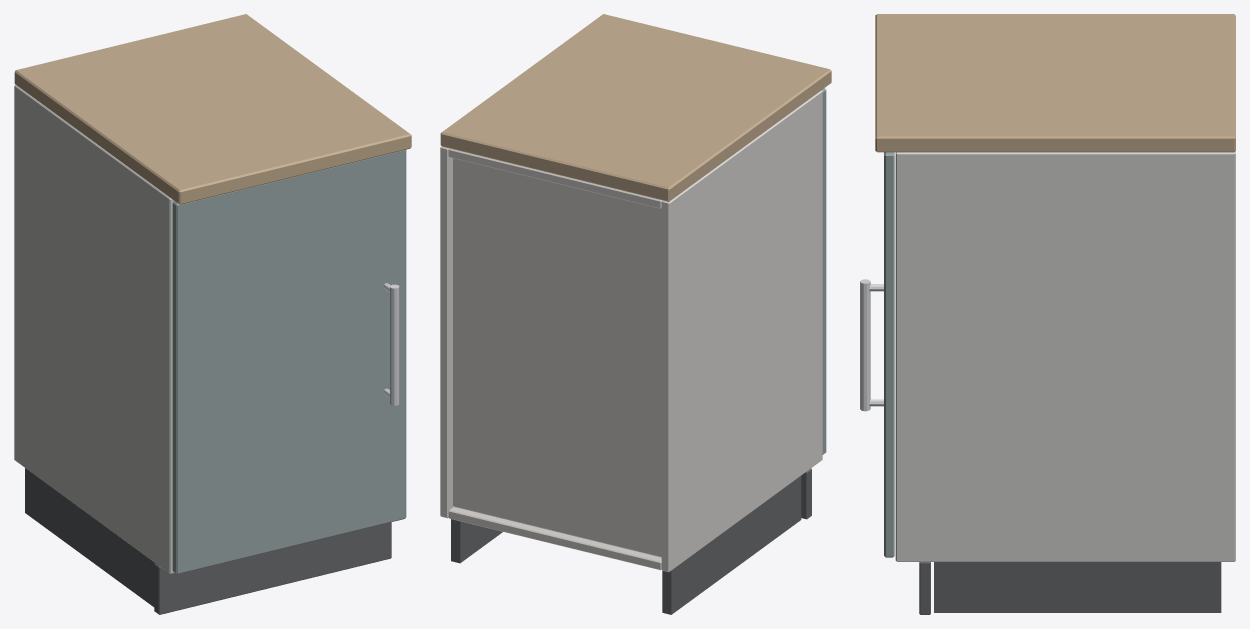
File: fitted-kitchen-and-bathroom-builder-base-500-a5b775bd__17804.glb
3 renders of one model, left to right at view 1: azimuth 30°, elevation 25°; view 2: azimuth 150°, elevation 25°; view 3: azimuth 270°, elevation 25°, orthographic. The views are drawn at different scales.
Parts seen in each view (by area): view 1: base-500, door-left/front, door-left/metal; view 2: base-500, door-left/front; view 3: base-500, door-left/front, door-left/metal.
Part boxes in pixels (left/top/right/bottom): base-500: left=14, top=14, right=411, bottom=614; door-left/front: left=172, top=150, right=406, bottom=574; door-left/metal: left=383, top=283, right=399, bottom=405; base-500: left=440, top=14, right=831, bottom=614; door-left/front: left=821, top=88, right=826, bottom=454; base-500: left=875, top=14, right=1235, bottom=614; door-left/front: left=884, top=152, right=894, bottom=557; door-left/metal: left=860, top=279, right=883, bottom=411.
Size of the model in its own units: 0.5 by 0.9 by 0.641.
